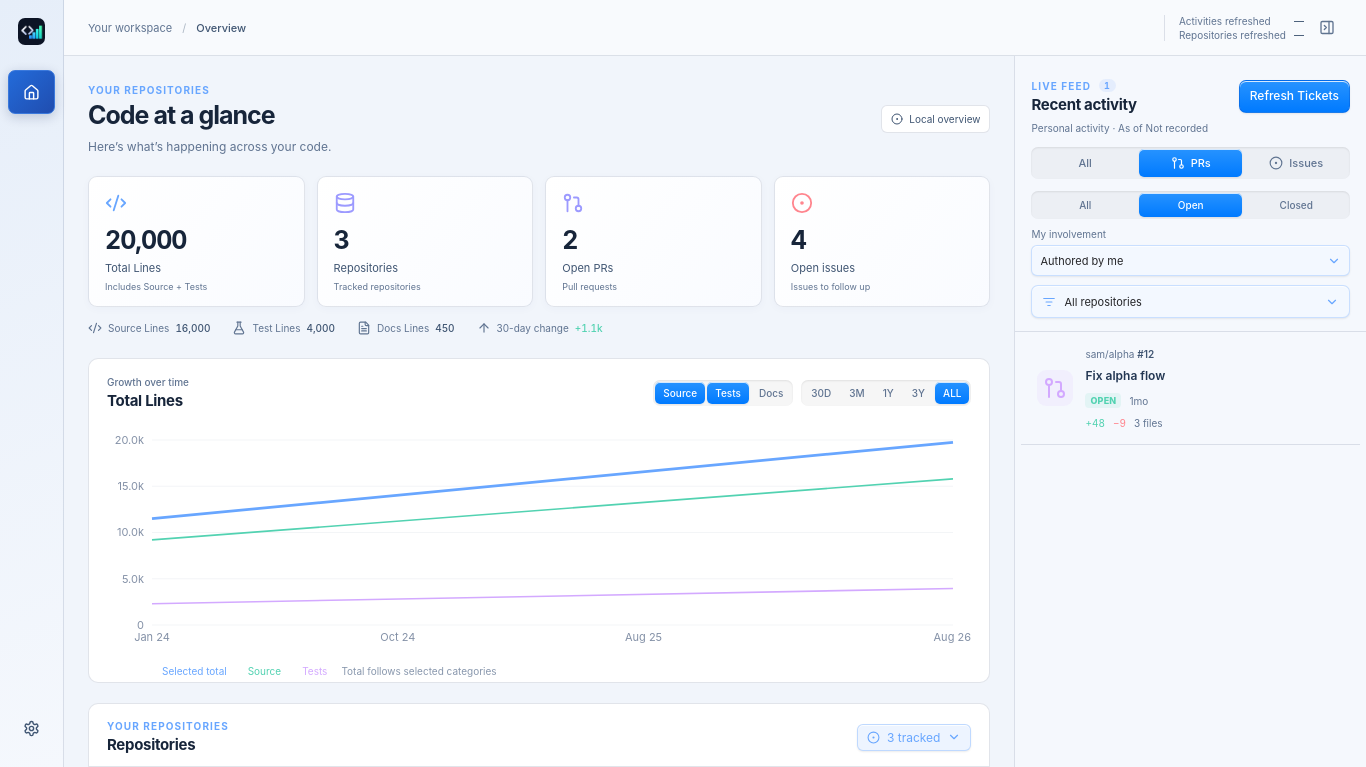
Test: dashboard UI › keeps the picker available when every table row is hidden and restores all rows locally
The width and height of the screenshot is (1366, 767).
Expected: the heading "Code at a glance" is shown, [88,100,275,130]
Click the button "3 tracked": (914, 737) [857,724,972,751]
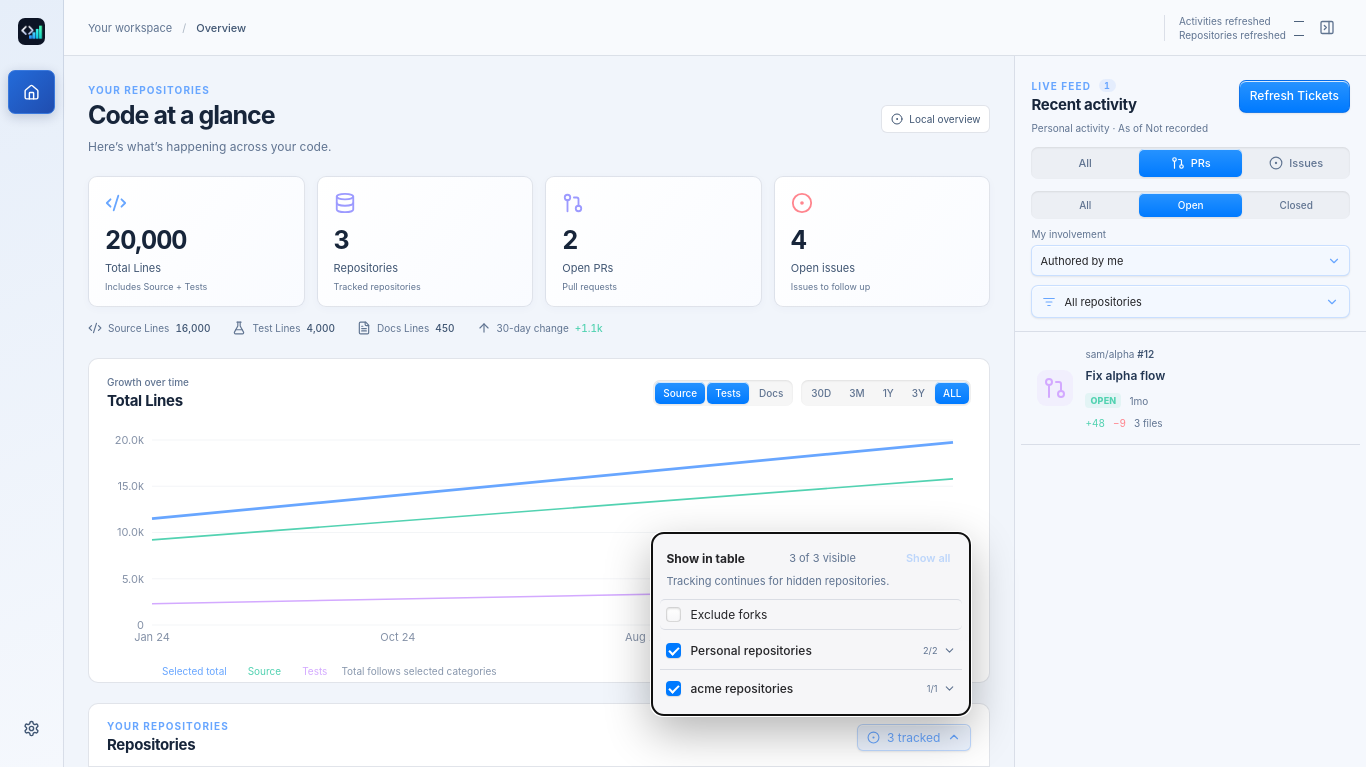
Click the checkbox named "Show Personal repositories in table": (674, 650) [666,643,682,658]
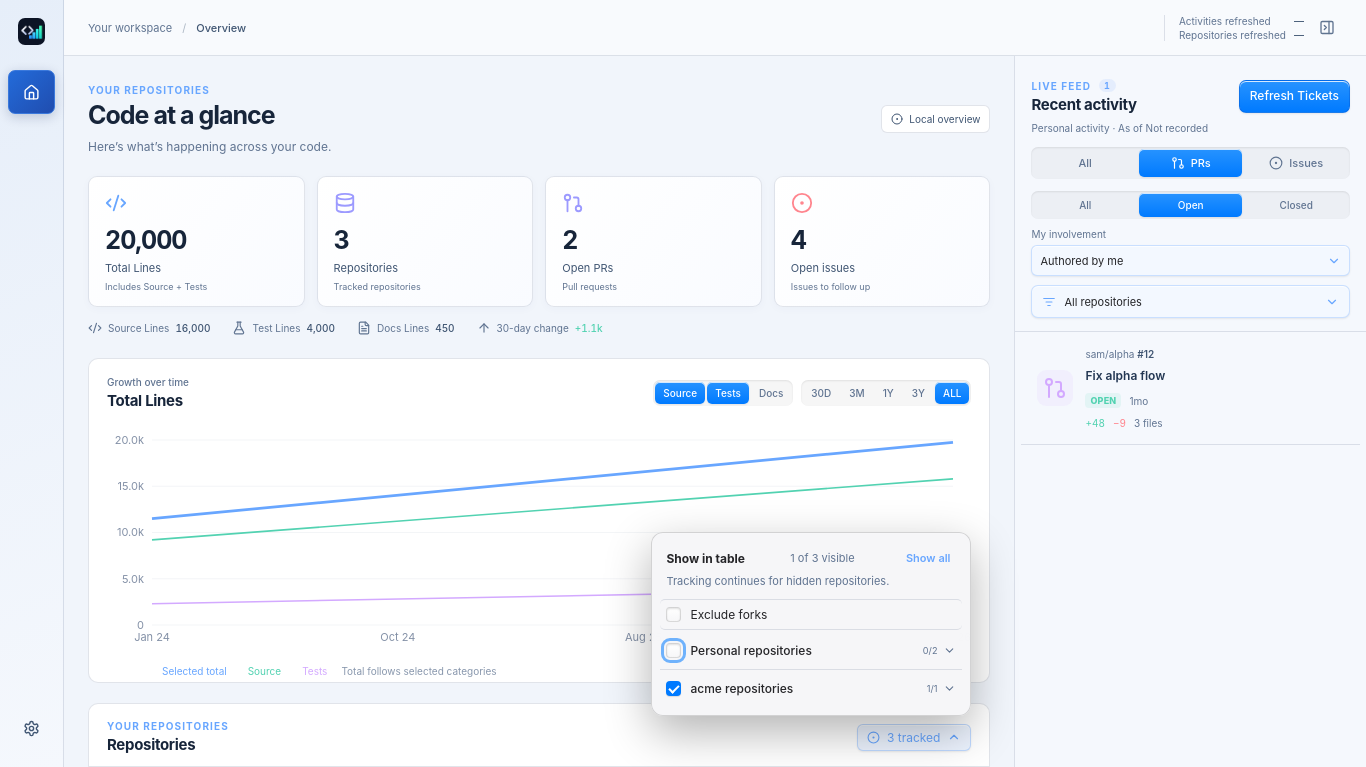
Click the checkbox named "Show acme repositories in table": (674, 688) [666,681,682,696]
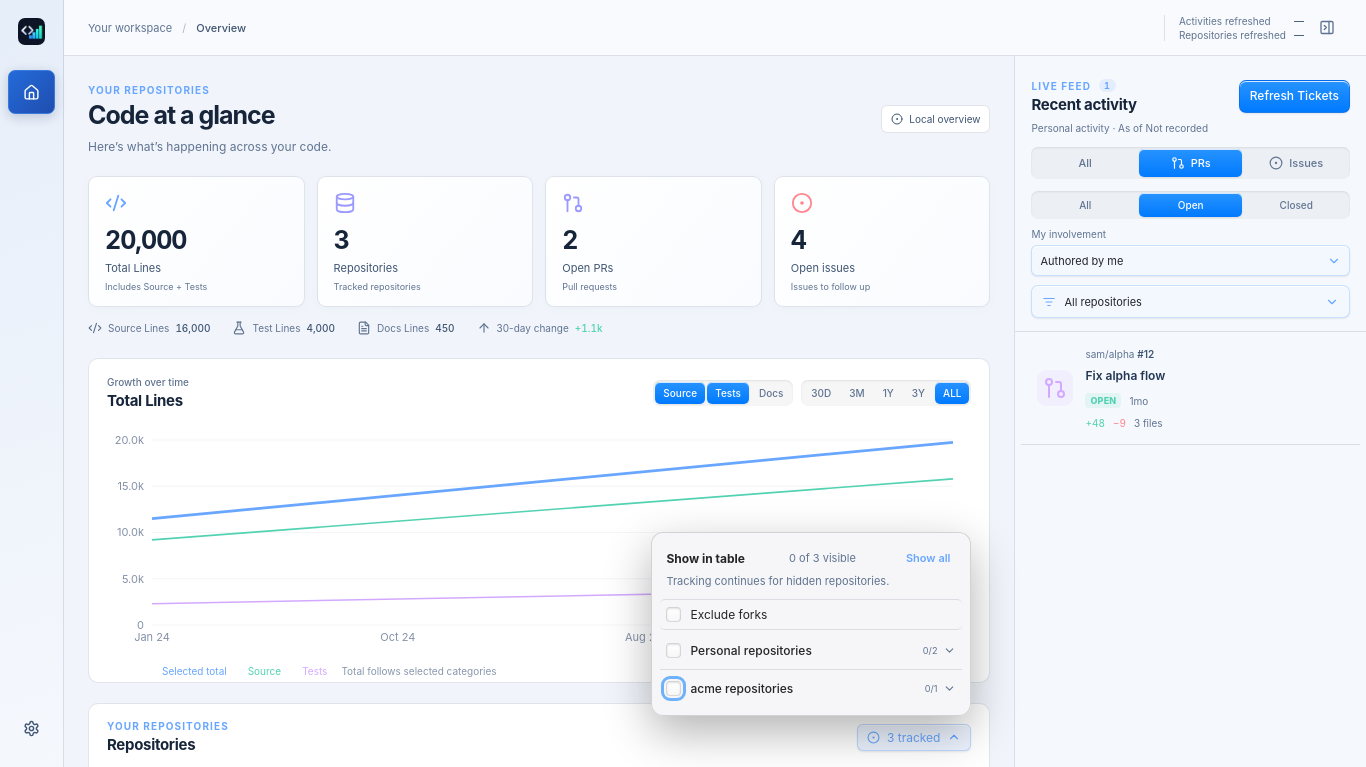
Expected: the button "3 tracked" is shown, [857,724,972,751]
Now the button "Show all" is enabled
Now the text "0 of 3 visible" is shown, box [789,551,856,565]
Click the button "Show all": (928, 558) [900,547,956,569]
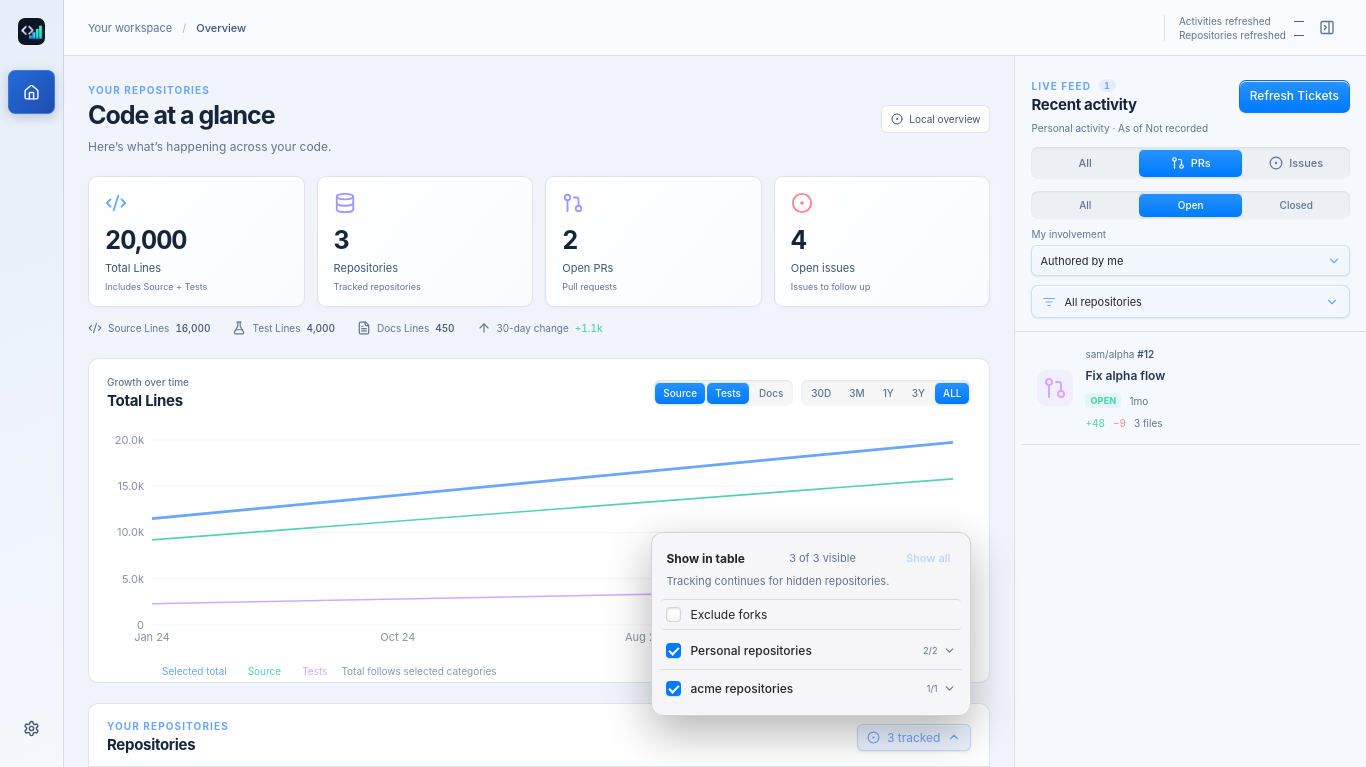
Now the text "3 of 3 visible" is shown, box [789,551,856,565]
